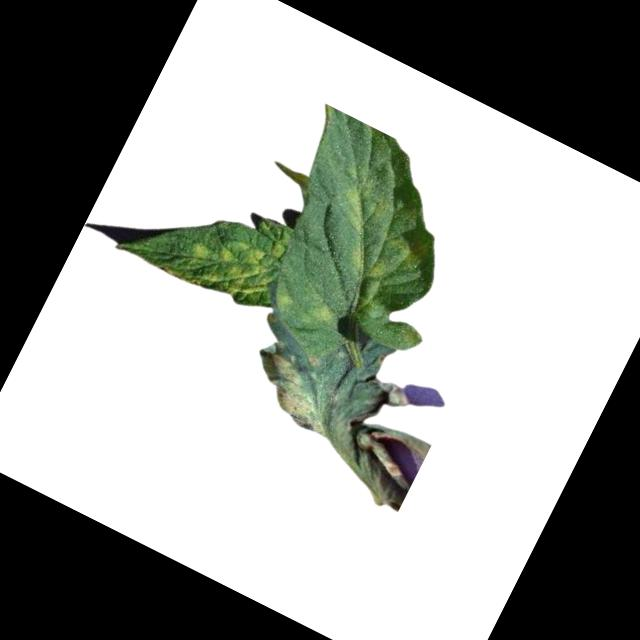Leaf_Mold: (314, 173, 436, 294), (177, 206, 290, 316), (242, 342, 350, 438), (303, 292, 345, 331)
